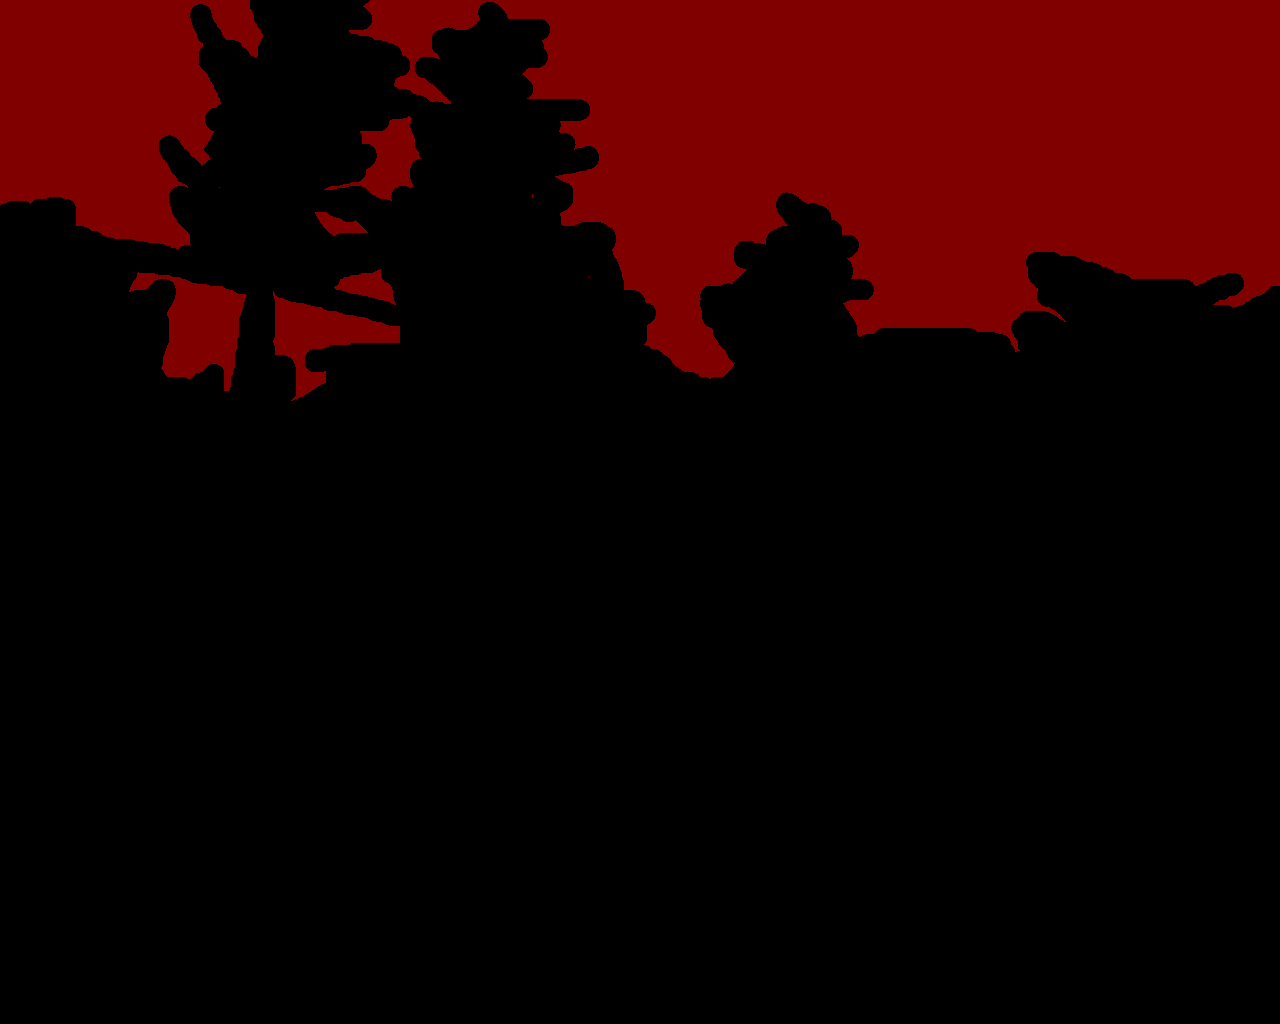Sky: (1, 1, 1279, 401)
